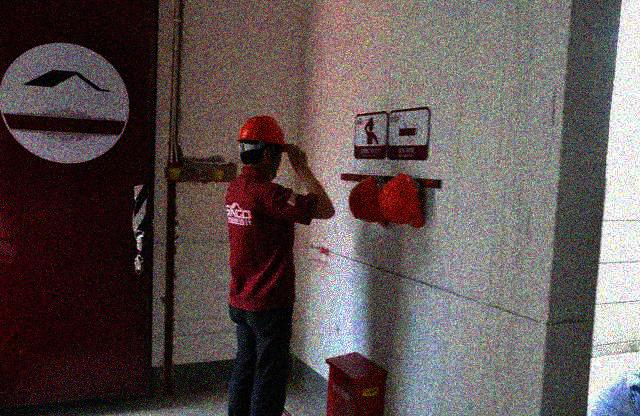helmet: (236, 114, 293, 180)
